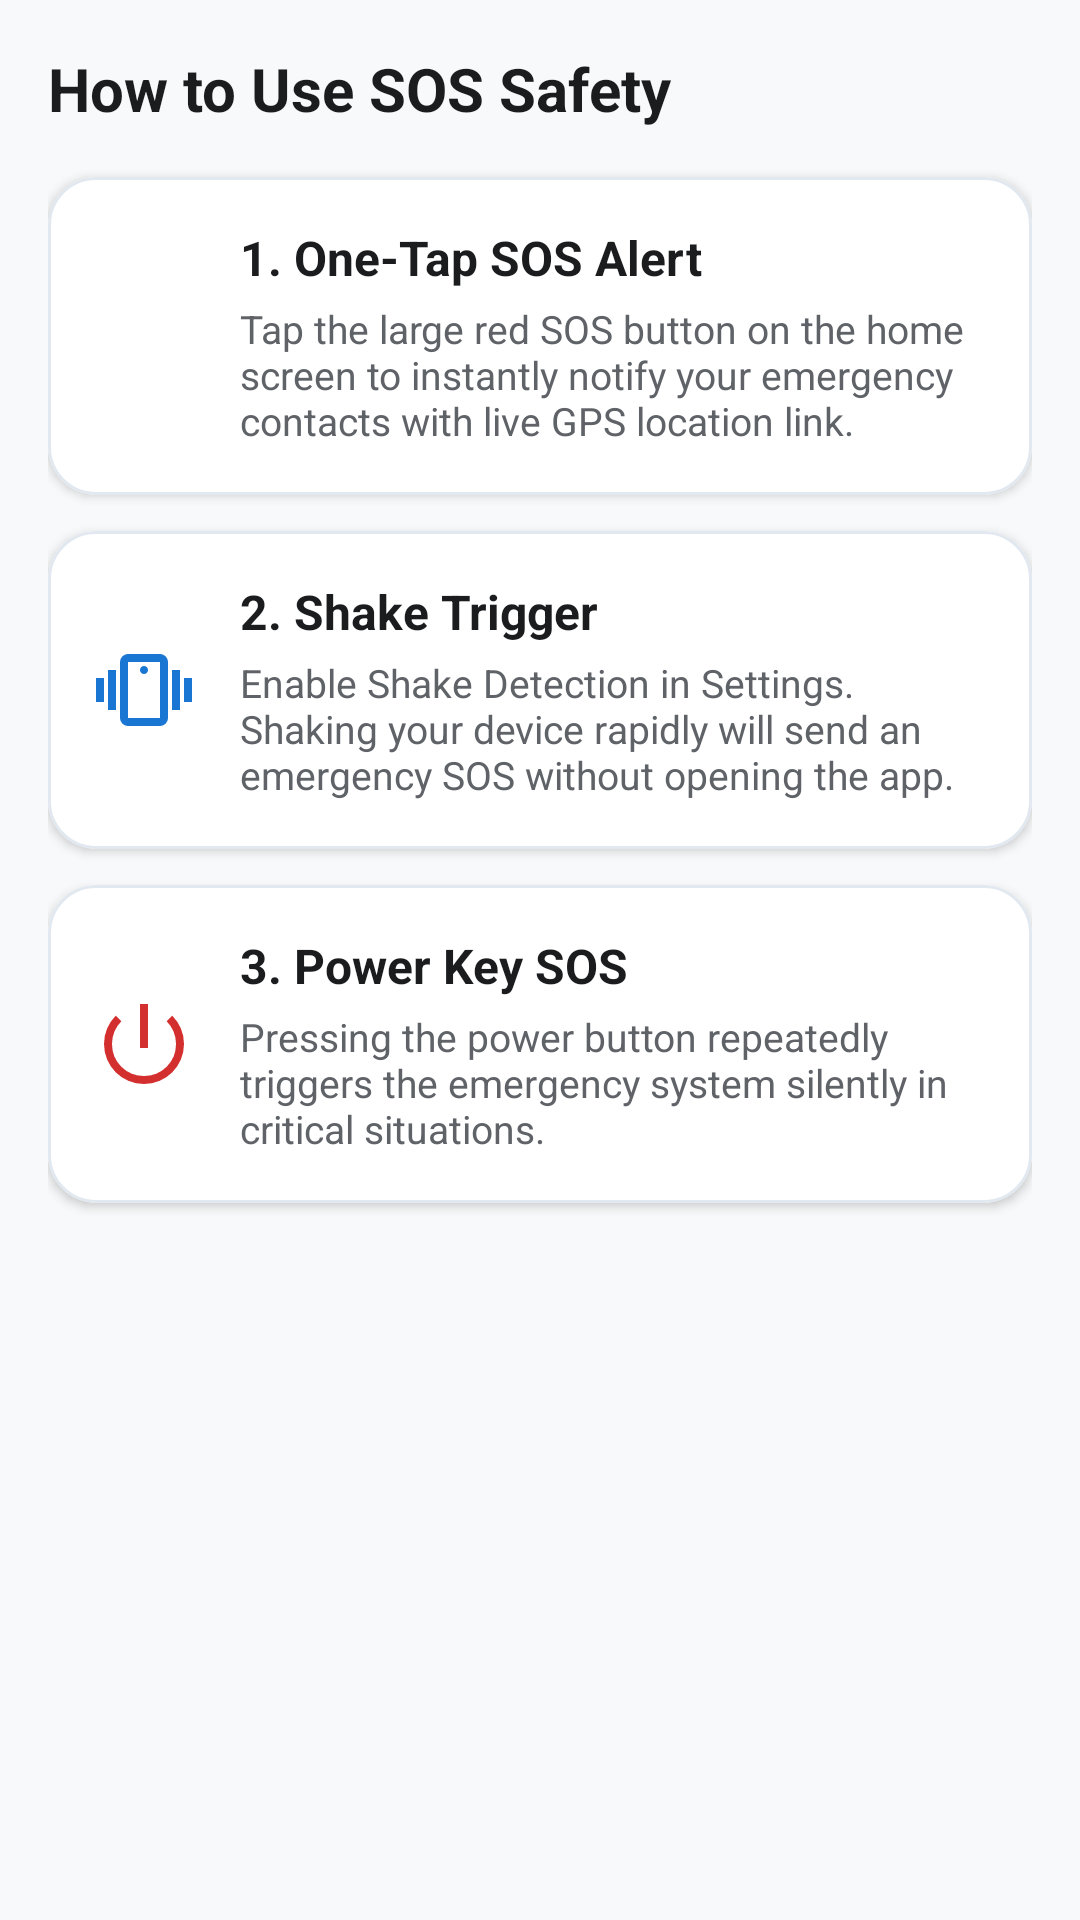

Named icons in this screenshot (1080w x 1920h) and their bounding boxes, (x1, y1, x2, y2):
Power Trigger: (104, 1004, 184, 1084)
Shake Alert: (96, 654, 192, 726)
